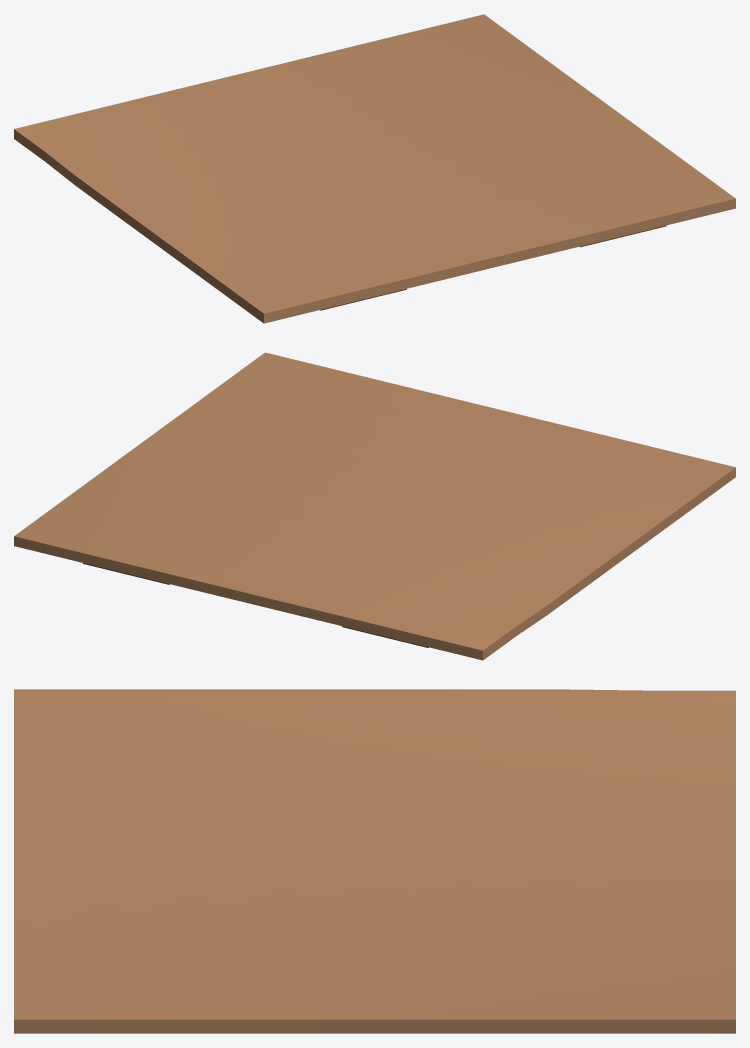
File: Med Single Mid Crate Lid.fbx
The picture shows the model from 3 angles, top to bottom: view 1: azimuth 30°, elevation 25°; view 2: azimuth 150°, elevation 25°; view 3: azimuth 270°, elevation 25°; orthographic projection. The views are drawn at different scales.
Visible parts, largest first — view 1: Med Mid SIngle Crate Lid; view 2: Med Mid SIngle Crate Lid; view 3: Med Mid SIngle Crate Lid.
Part boxes in pixels (<box>): Med Mid SIngle Crate Lid: <box>14,14,735,323</box>; Med Mid SIngle Crate Lid: <box>14,352,735,660</box>; Med Mid SIngle Crate Lid: <box>14,689,735,1033</box>.
Bounding box in the file's own units: 7.13 × 192 × 208.
1 material, 1 textured.
